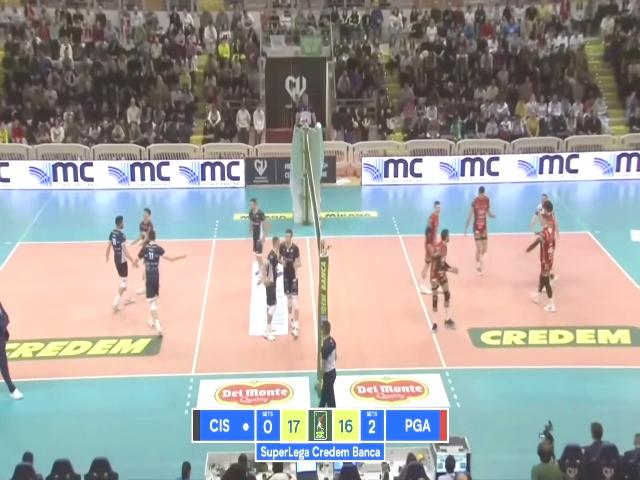volleyball court: (0, 230, 639, 378)
